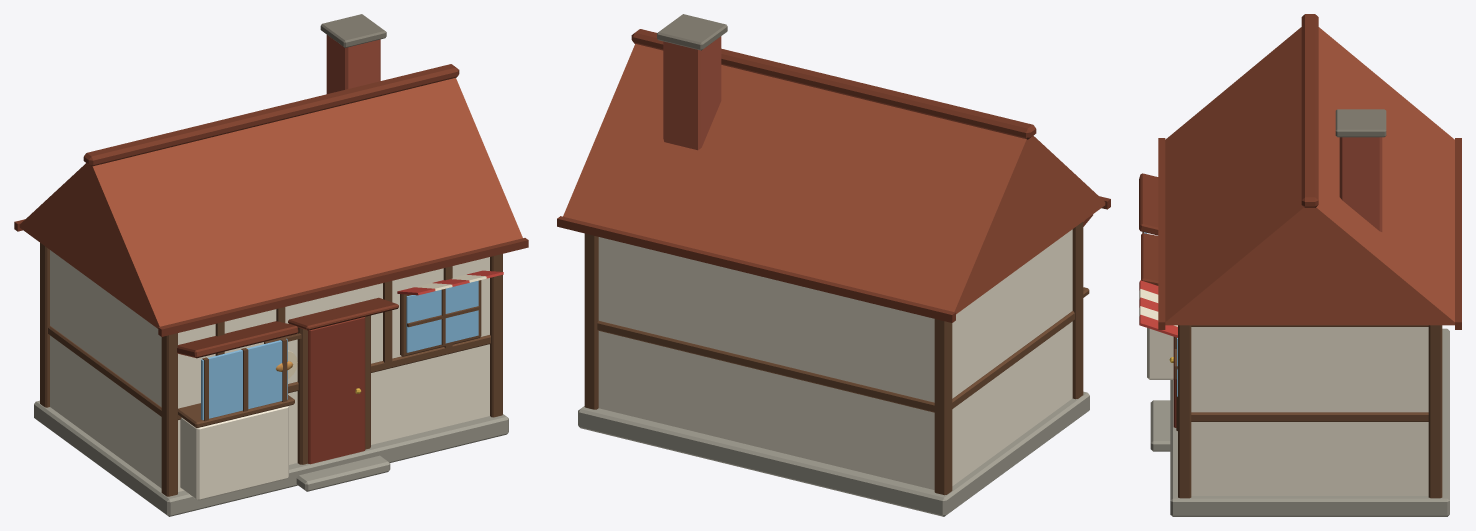
File: cottage.glb
The picture shows the model from 3 angles, left to right: view 1: azimuth 30°, elevation 25°; view 2: azimuth 150°, elevation 25°; view 3: azimuth 270°, elevation 25°; orthographic projection. The views are drawn at different scales.
Parts seen in each view (by area): view 1: cottage; view 2: cottage; view 3: cottage.
Boxes of the visible parts, bbox=[...] form: cottage: bbox=[14, 14, 528, 516]; cottage: bbox=[557, 14, 1110, 516]; cottage: bbox=[1139, 14, 1461, 516].
Bounding box in the file's own units: 5.2 × 4.77 × 3.81.
